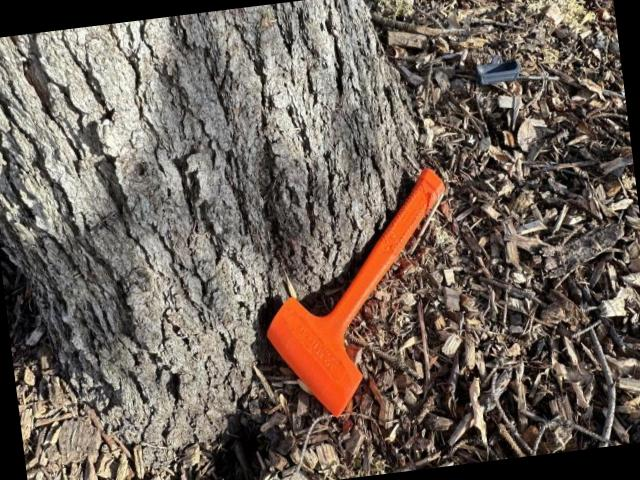hammer: (248, 168, 472, 422)
